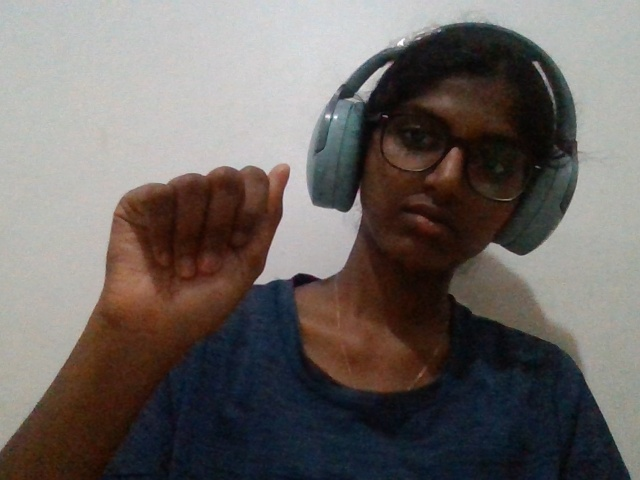A: (48, 140, 304, 420)
